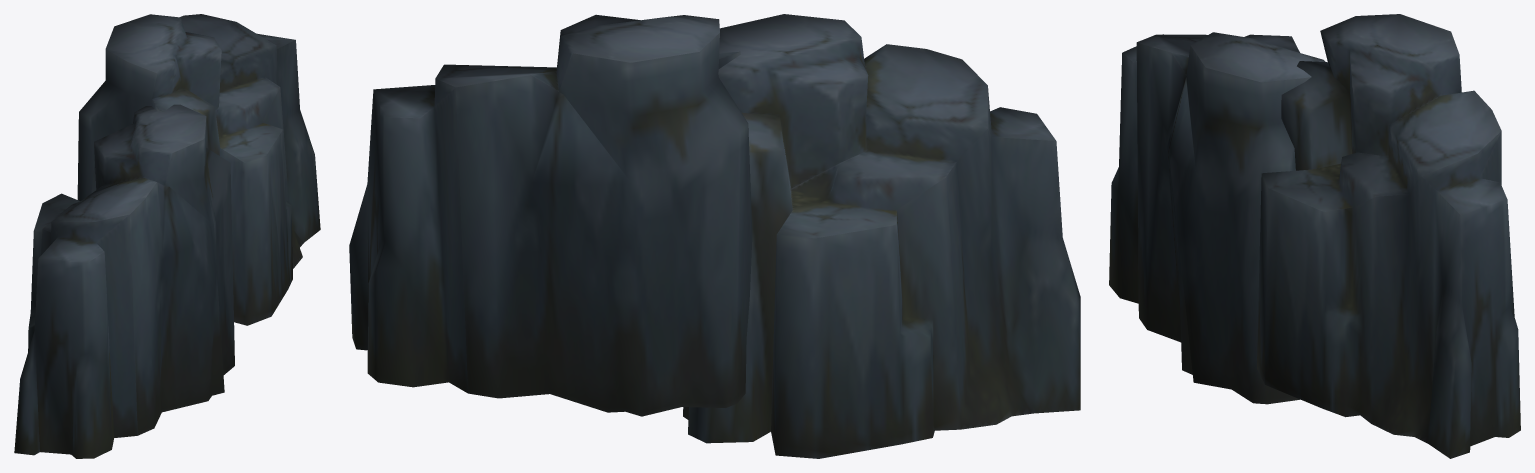
Rendered from Area_03_1.fbx.
3 views of the same model, side by side, from view 1: azimuth 30°, elevation 25°; view 2: azimuth 150°, elevation 25°; view 3: azimuth 270°, elevation 25° (orthographic). The views are drawn at different scales.
Visible parts, largest first — view 1: Area_03_1; view 2: Area_03_1; view 3: Area_03_1.
Boxes of the visible parts, left/top/right/bottom form: Area_03_1: left=14, top=14, right=320, bottom=458; Area_03_1: left=349, top=14, right=1080, bottom=458; Area_03_1: left=1109, top=14, right=1520, bottom=458.
Bounding box in the file's own units: 3433 × 2245 × 2402.
